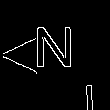N_S: (40, 30, 82, 80)
